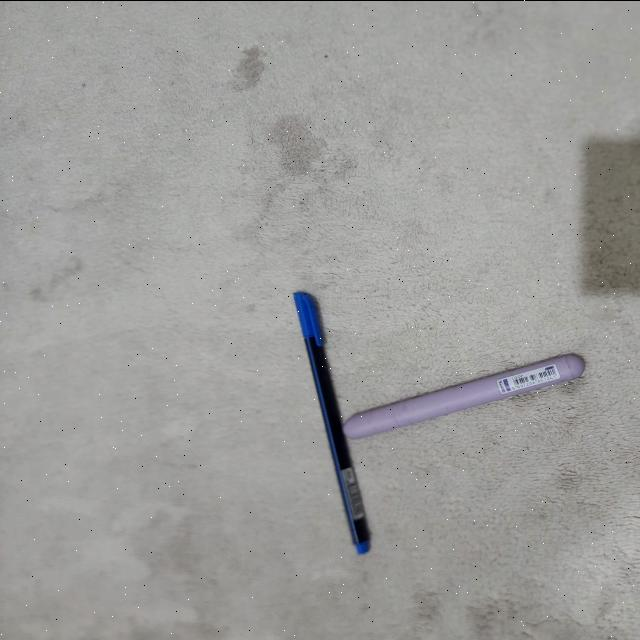kalem1: (292, 291, 370, 554)
kalem2: (344, 354, 584, 438)
